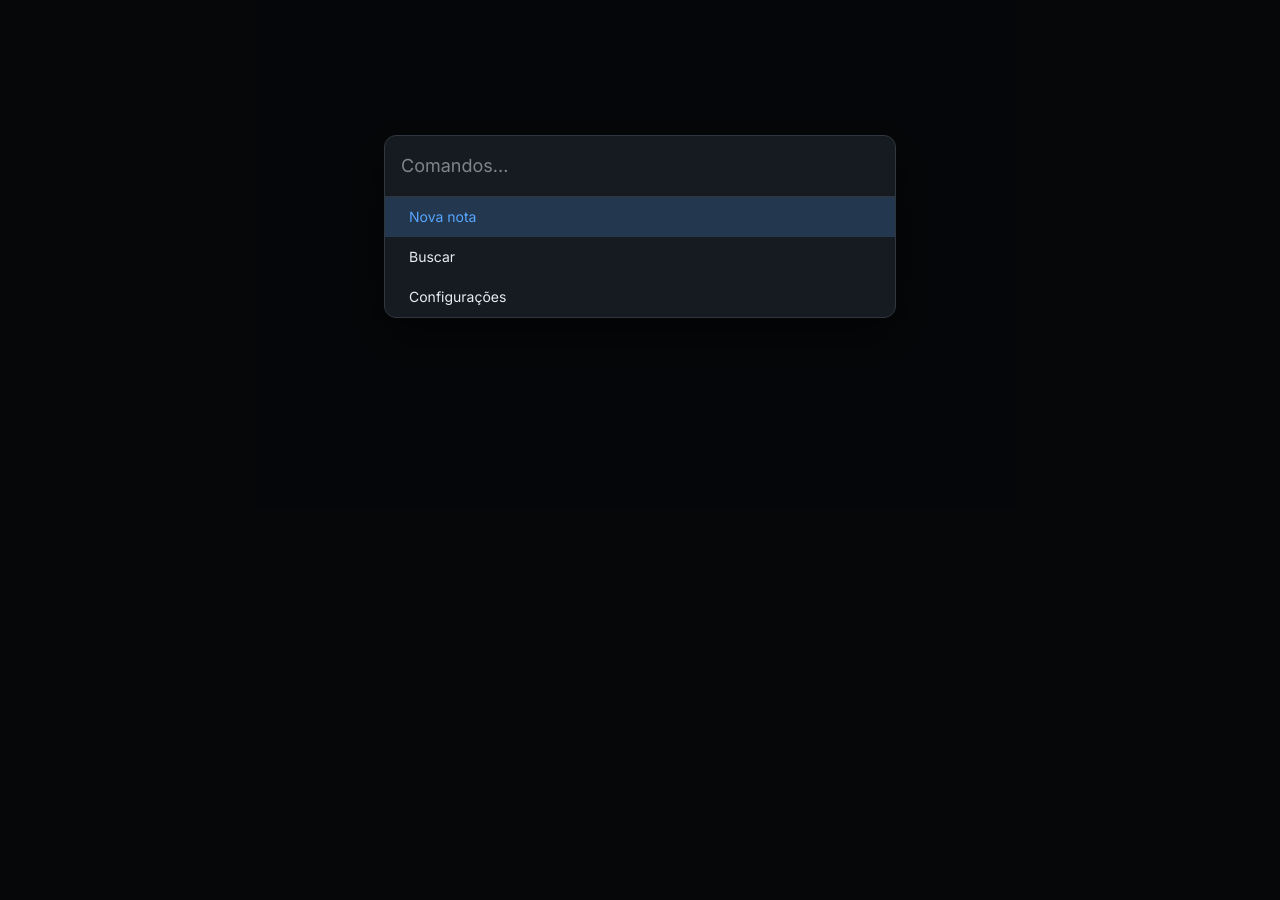
Test: CommandPalette › mostra "Nenhum comando encontrado" quando filtro não encontra
Type "zzzz" into the field with placeholder "Comandos..." at (640, 166), box [385,136,895,197]
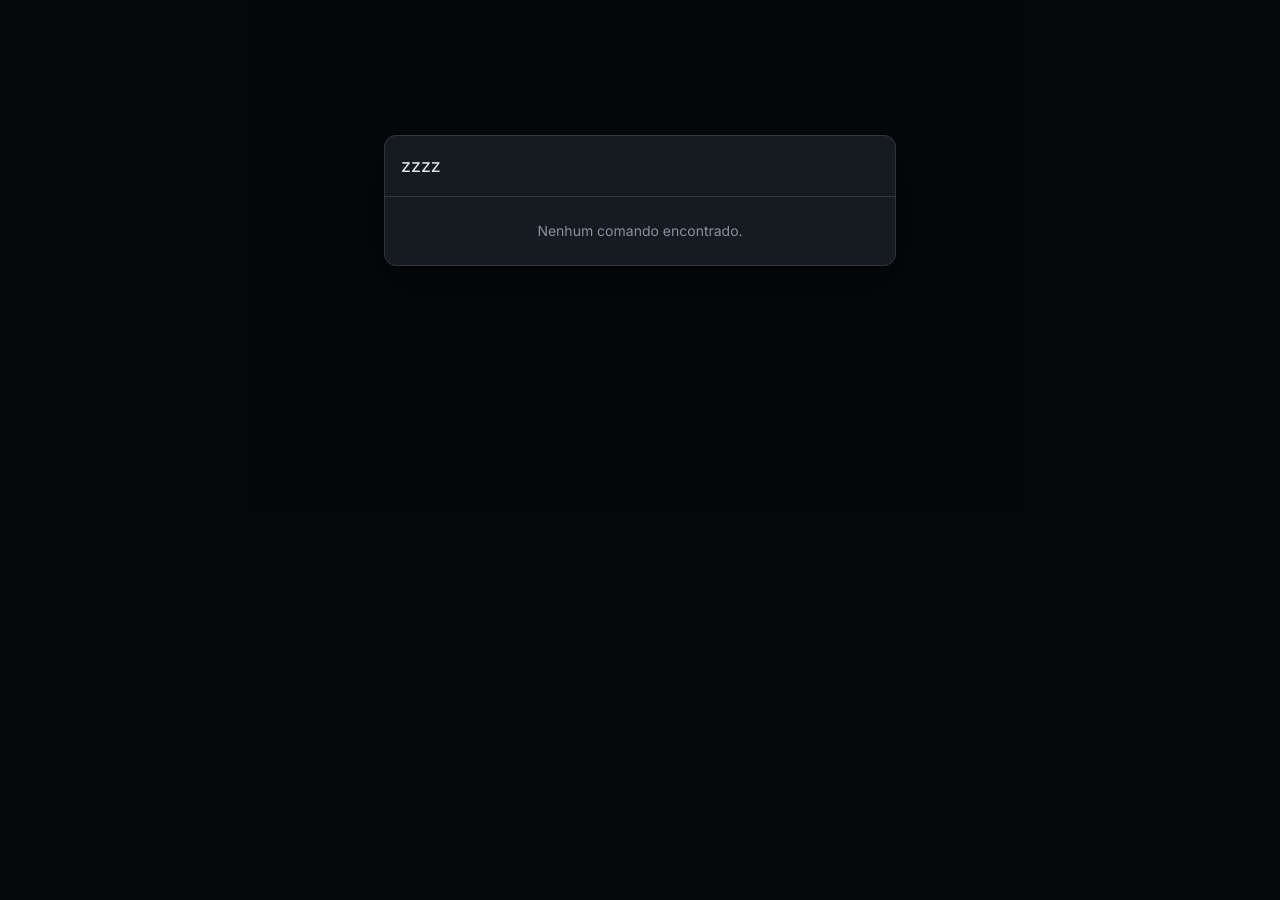
Expected: the text "Nenhum comando encontrado." is shown, [537,222,743,239]
